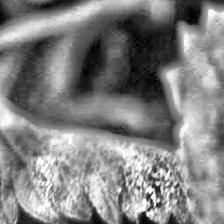Powdery Mildew Leaf: (0, 71, 214, 224)
